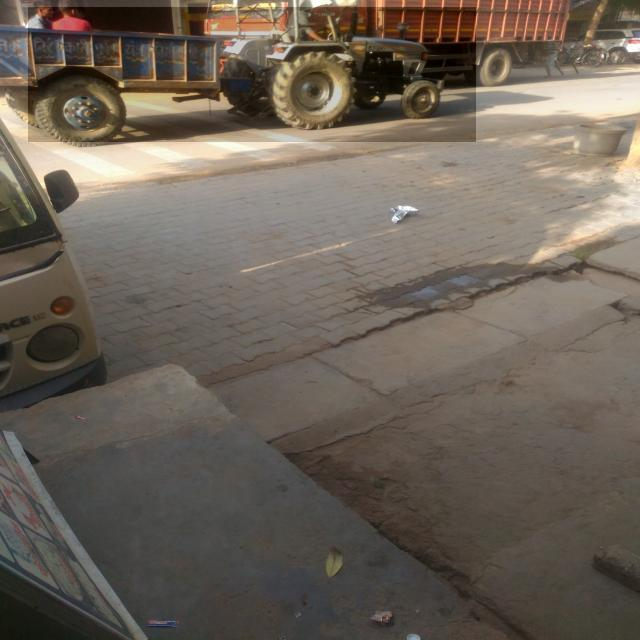Tractot: (28, 7, 476, 142)
